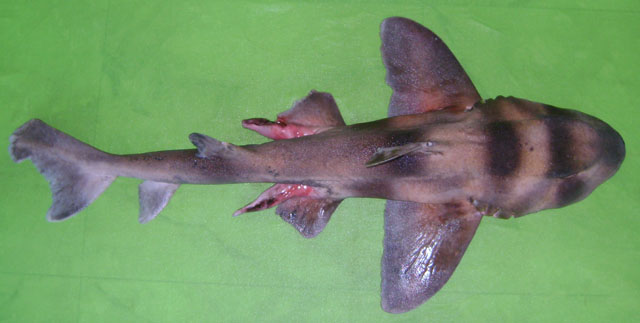shark: (9, 13, 632, 312)
